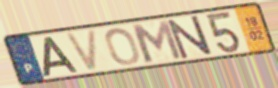5: (203, 11, 242, 55)
A: (42, 35, 81, 78)
M: (128, 18, 185, 64)
N: (165, 14, 215, 61)
O: (104, 26, 142, 66)
V: (63, 27, 100, 73)
